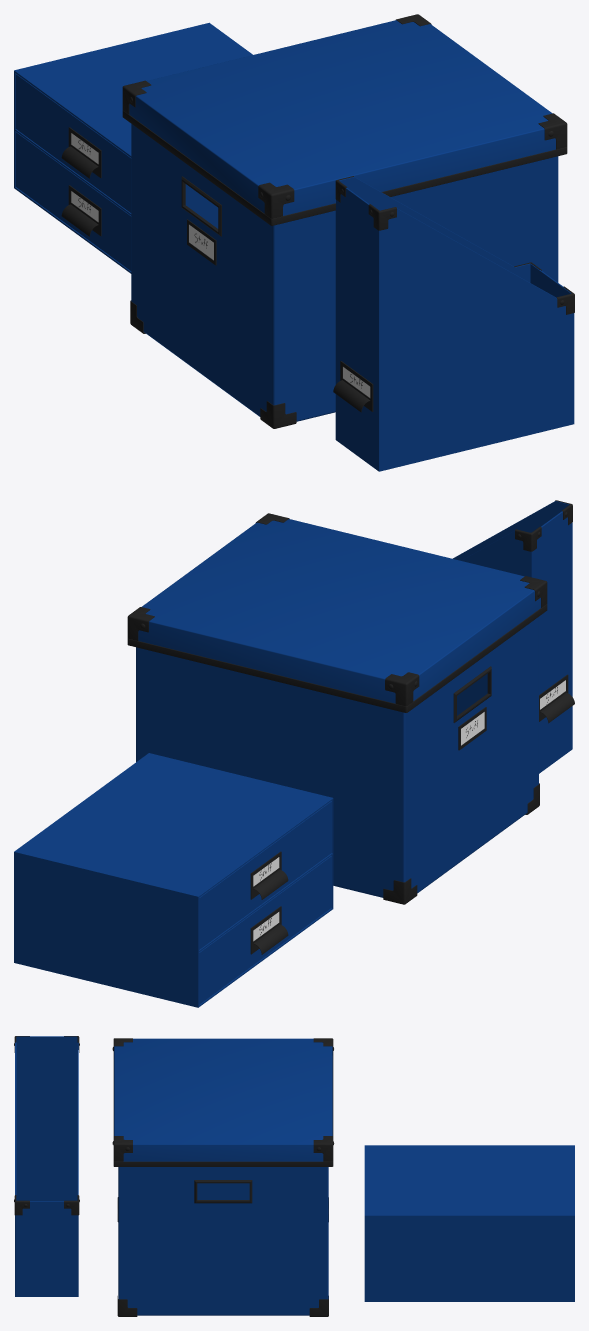
The model's file is canvas boxes.FBX.
3 renders of one model, top to bottom at view 1: azimuth 30°, elevation 25°; view 2: azimuth 150°, elevation 25°; view 3: azimuth 270°, elevation 25°, orthographic. The views are drawn at different scales.
Visible parts, largest first — view 1: Box 02, Magazine Box05, Box 08, Paper Box01, Box 03, Box 01, Box 07, Magazine Box06, Box 04; view 2: Paper Box01, Box 08, Box 02, Magazine Box05, Box 03, Box 01, Box 07; view 3: Paper Box01, Box 08, Box 02, Magazine Box05, Box 03, Box 01, Box 07, Box 04, Magazine Box04.
Part boxes in pixels (x1,y1,x2,y2): Box 02: (129,20,555,215); Magazine Box05: (335,177,574,471); Box 08: (131,124,558,421); Paper Box01: (14,22,252,273); Box 03: (122,110,567,225); Box 01: (122,14,567,218); Box 07: (130,300,296,428); Magazine Box06: (335,176,396,230); Box 04: (181,176,221,236); Paper Box01: (14,753,333,1007); Box 08: (136,617,538,897); Box 02: (138,519,540,703); Magazine Box05: (453,501,572,773); Box 03: (127,604,547,712); Box 01: (127,513,547,706); Box 07: (383,783,539,904); Paper Box01: (364,1145,574,1301); Box 08: (118,1167,328,1315); Box 02: (114,1038,332,1161); Magazine Box05: (15,1036,78,1296); Box 03: (113,1056,333,1166); Box 01: (112,1038,334,1161); Box 07: (117,1197,328,1316); Box 04: (194,1180,252,1203); Magazine Box04: (14,1195,79,1215).
Size of the model in its own units: 39.75 by 33.16 by 88.01.
Materials: 3 (1 with a texture image).
